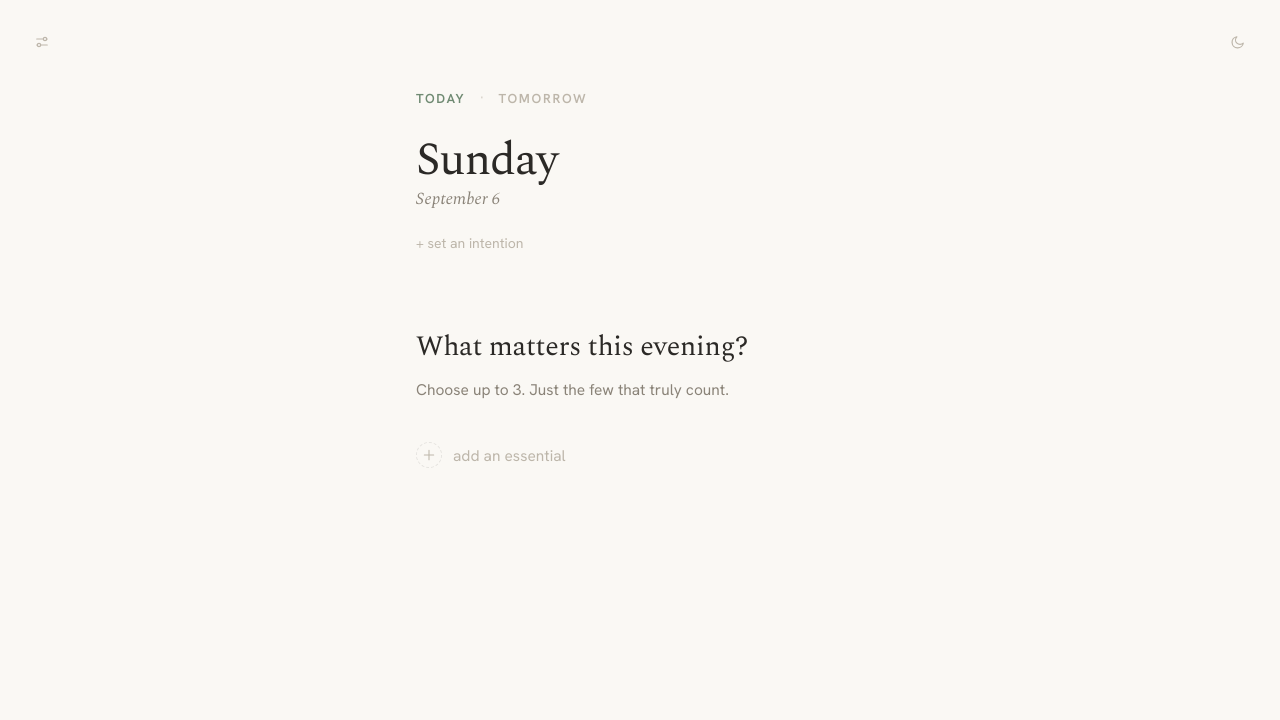
Test case: completing › shows the rest note once everything is done
This screenshot has width=1280, height=720.
Click the button "add an essential" at (491, 455), box [416,422,566,488]
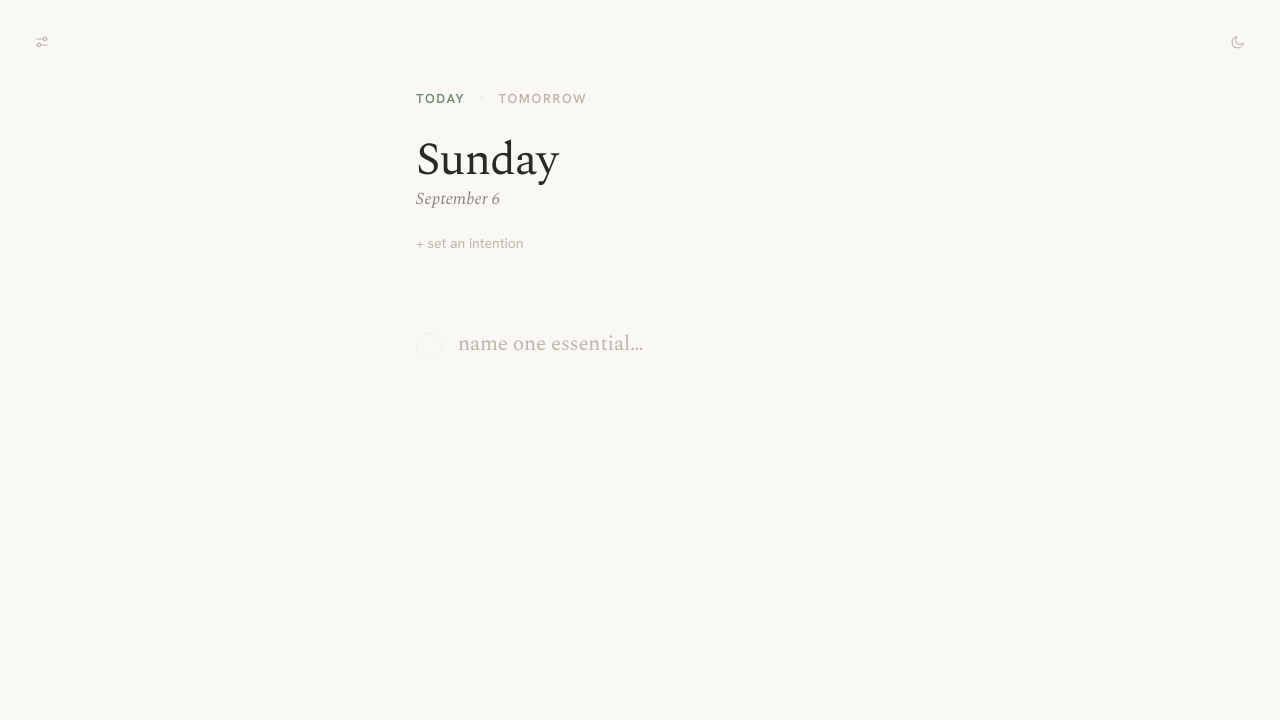
Type "Only thing" into the field named "New essential" at (661, 345), box [458,330,864,360]
Then press Enter
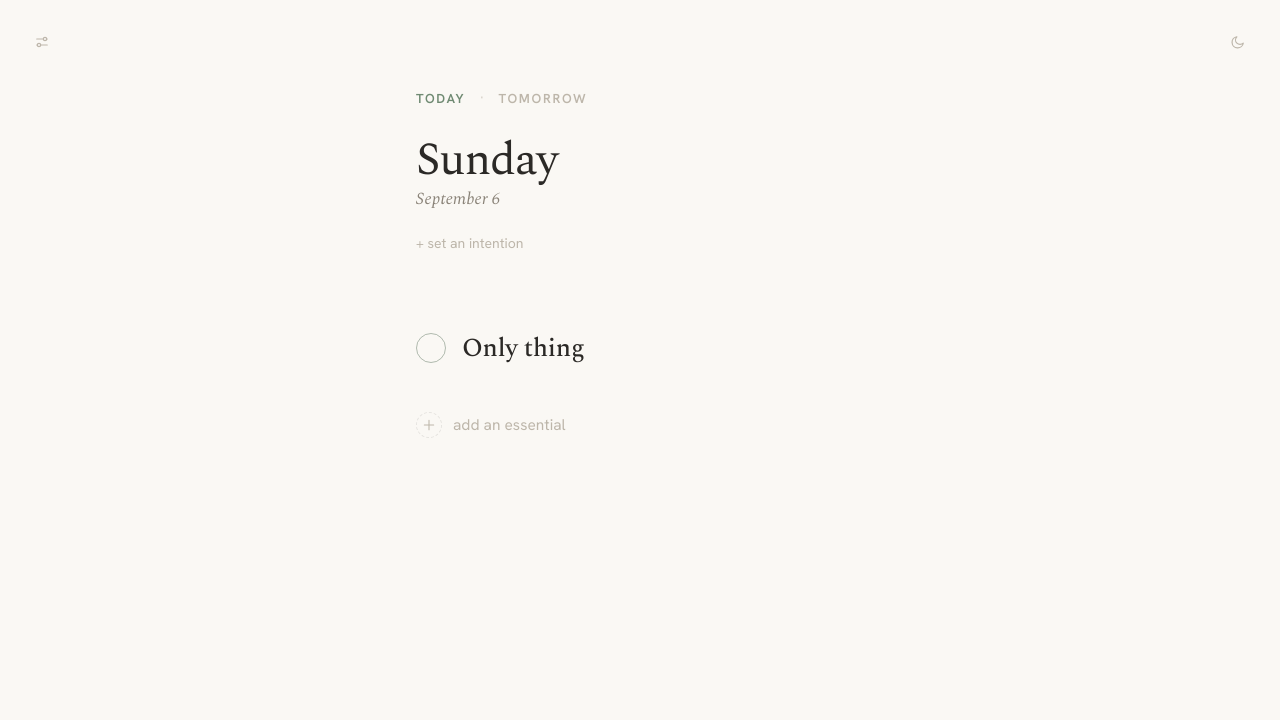
Click the checkbox named "Only thing" at (431, 348), box [416,333,446,363]
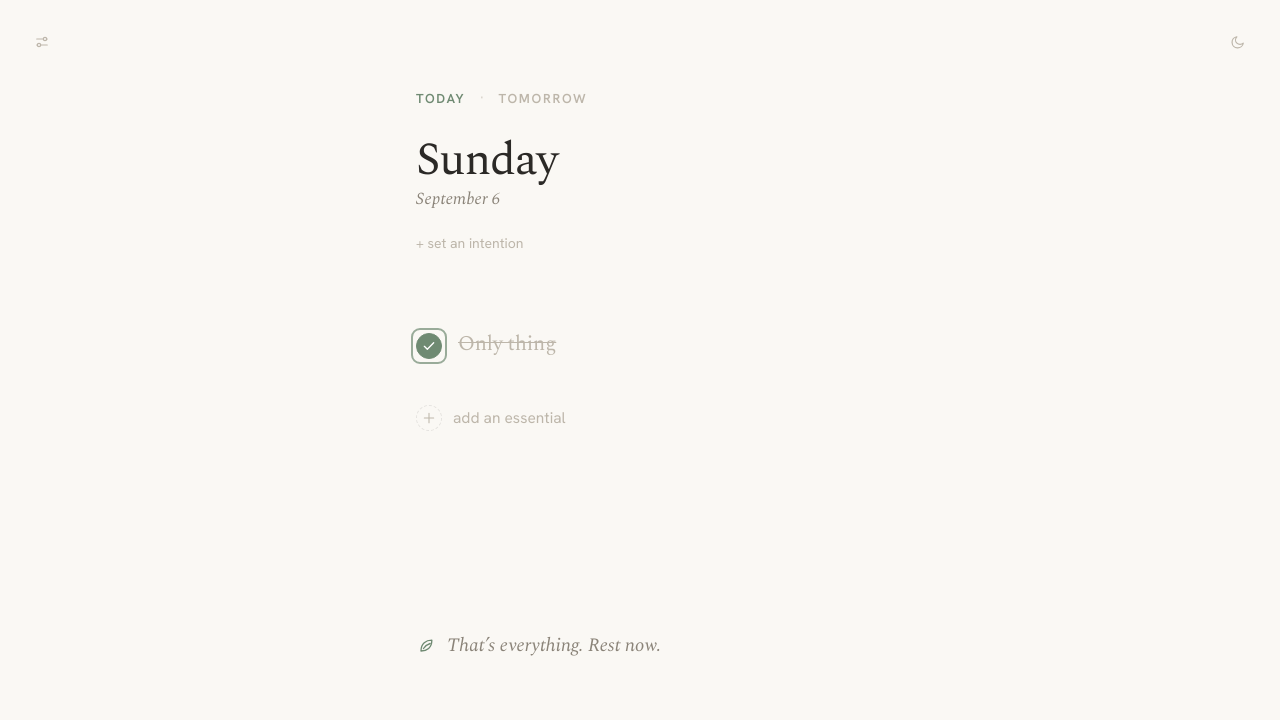
Check: the text "That’s everything. Rest now." is shown, box [447,632,661,660]
